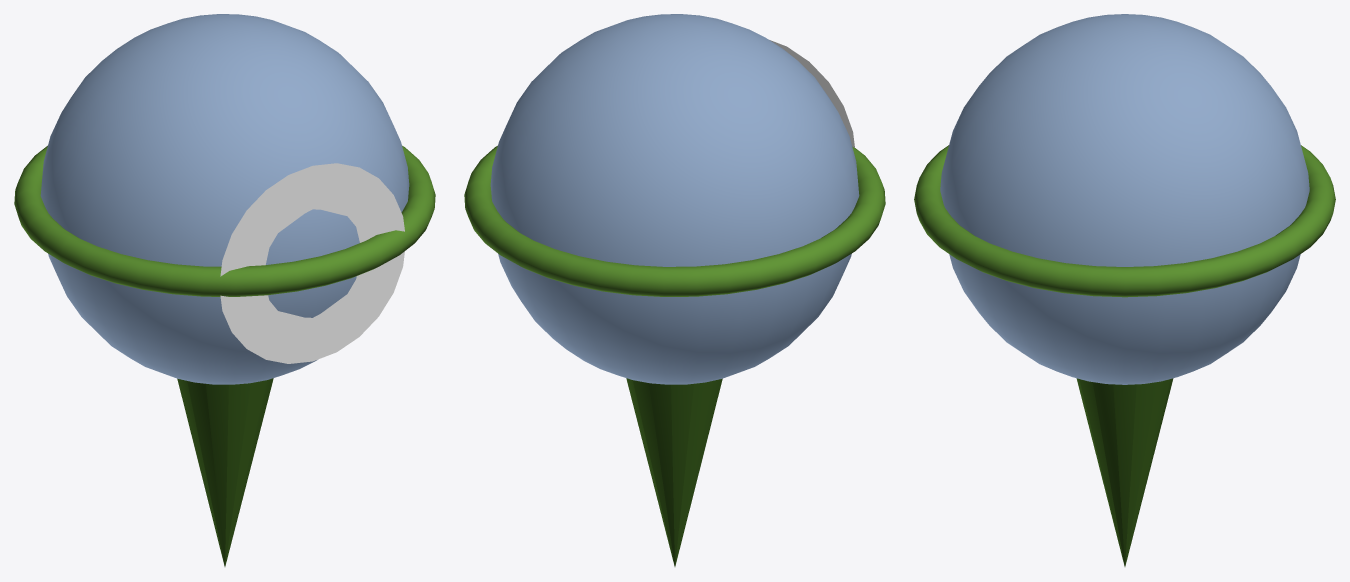
Rendered from tornado.glb.
The picture shows the model from 3 angles, left to right: view 1: azimuth 30°, elevation 25°; view 2: azimuth 150°, elevation 25°; view 3: azimuth 270°, elevation 25°; orthographic projection.
Parts seen in each view (by area): view 1: hazardPin; view 2: hazardPin; view 3: hazardPin.
Boxes of the visible parts, bbox=[...] form: hazardPin: bbox=[14, 14, 435, 566]; hazardPin: bbox=[464, 14, 885, 566]; hazardPin: bbox=[914, 14, 1335, 566].
Size of the model in its own units: 1.25 by 1.76 by 1.25.
